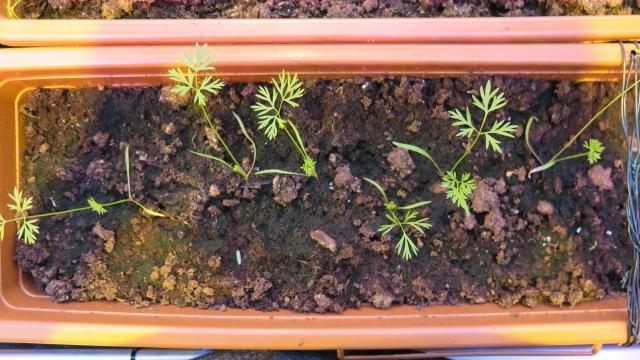crop: (359, 175, 437, 263)
